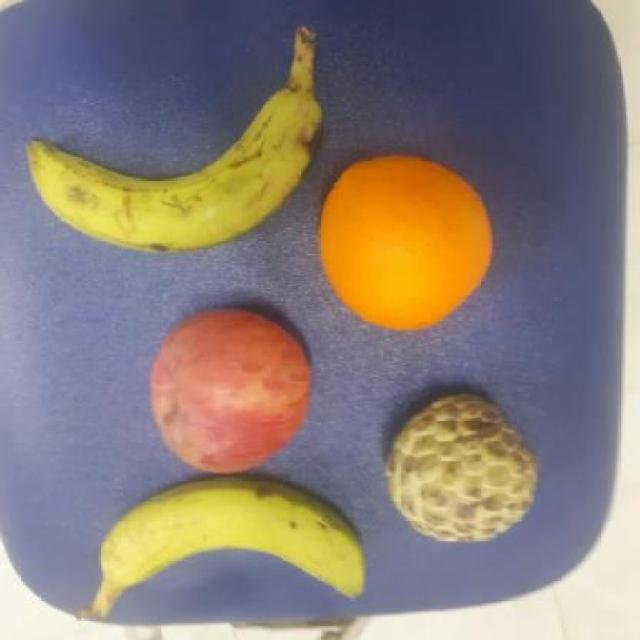apple: (145, 307, 317, 478)
banana: (24, 83, 324, 254), (88, 479, 370, 608)
oren: (312, 156, 500, 332)
sugar apple: (381, 388, 545, 548)
